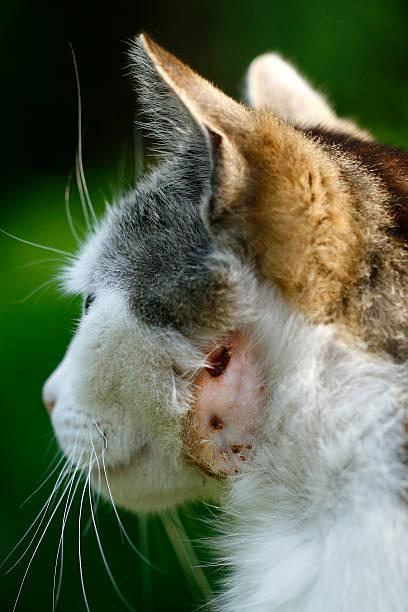infection: (141, 267, 311, 513)
